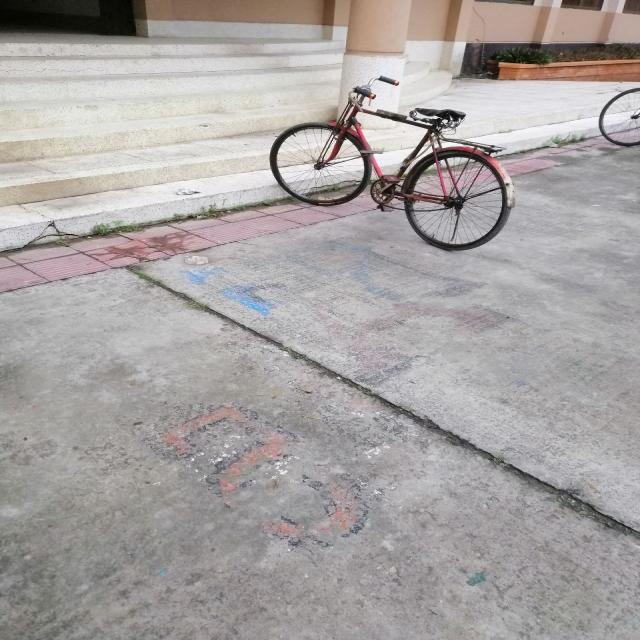Bicycle: (243, 62, 535, 266)
